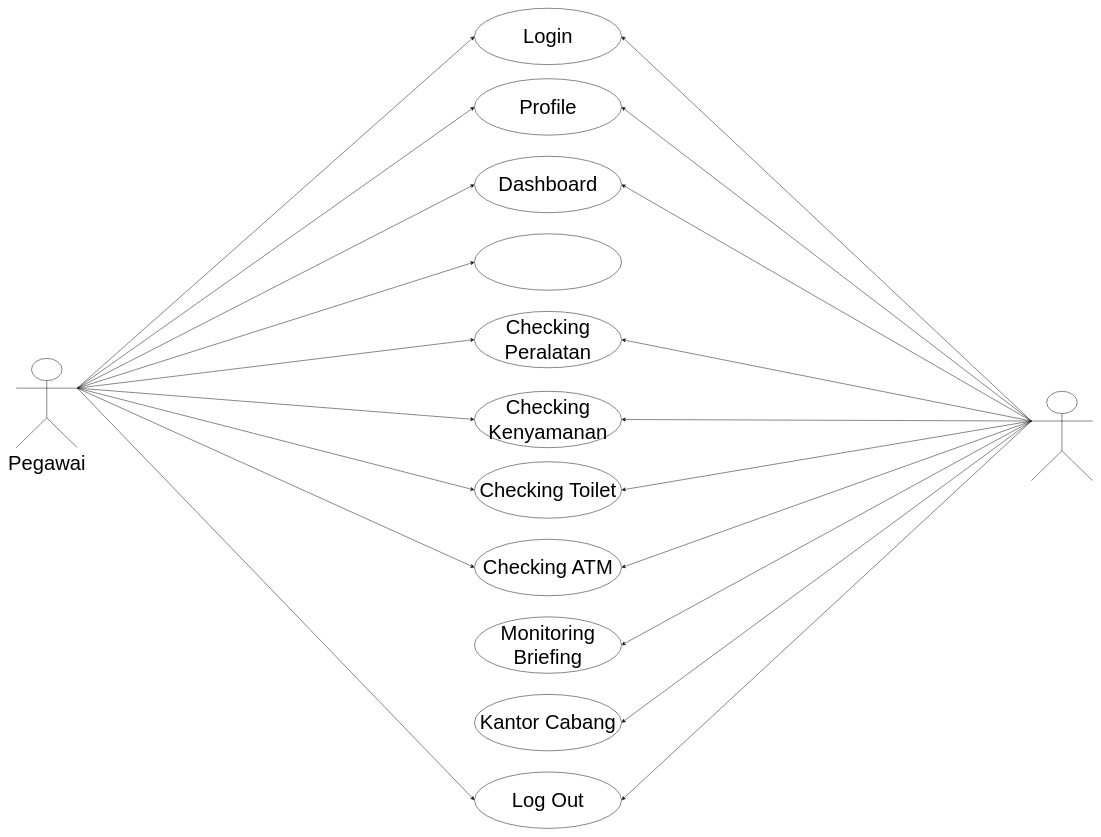
This 1101x837 diagram has some shape labels left out. The shapes that lost their labels are listed below. From the top down, each one's box as (x1, y1, x2, y2) in pixels, then its label:
(474, 233, 622, 290): Form Briefing
(1031, 391, 1093, 481): Admin
